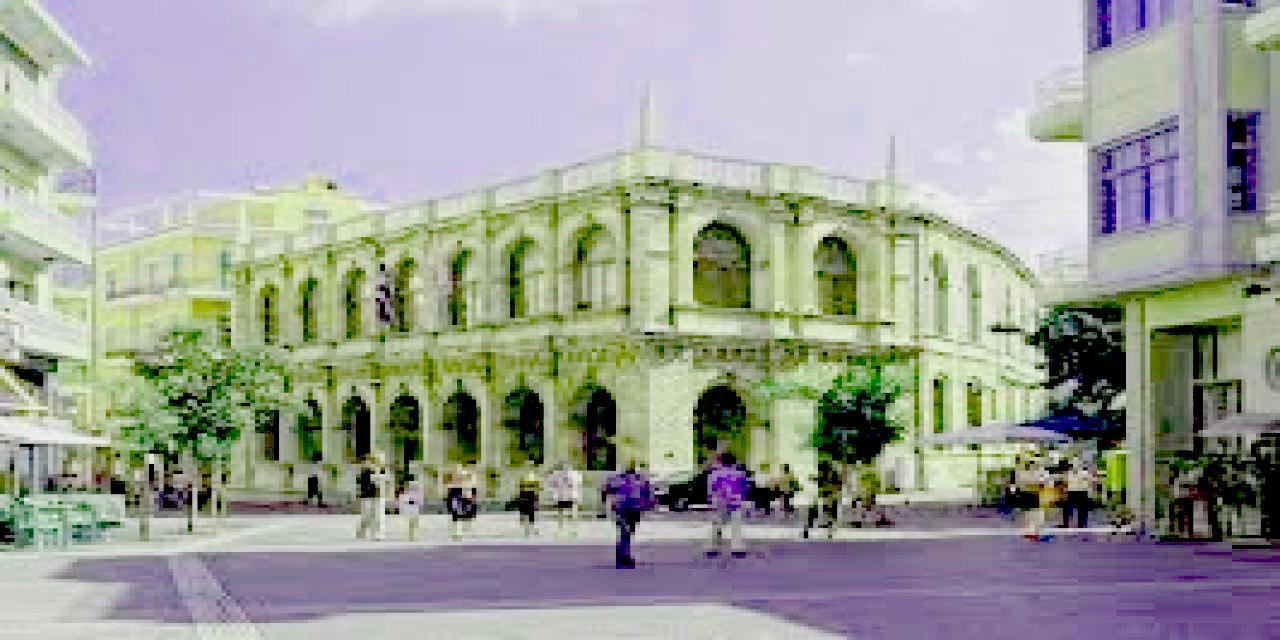Loggia: (216, 101, 1067, 494)
